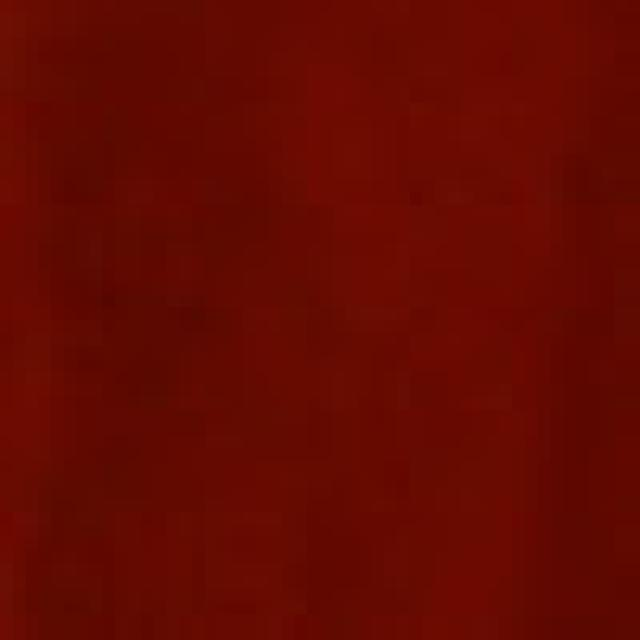fire: (0, 13, 589, 640)
